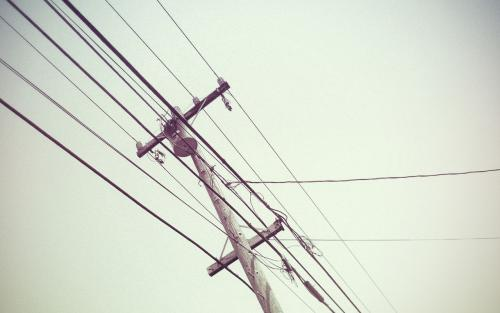utility_pole: (126, 69, 238, 171)
